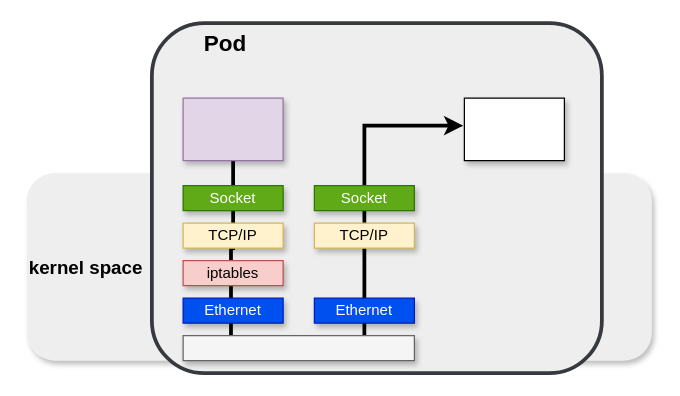
Image size: 680x396. Some labels were removed from this diagram. Each missing label, with the centre of its shape:
client: (x=234, y=130)
envoy: (x=515, y=130)
Loopback: (x=299, y=349)
